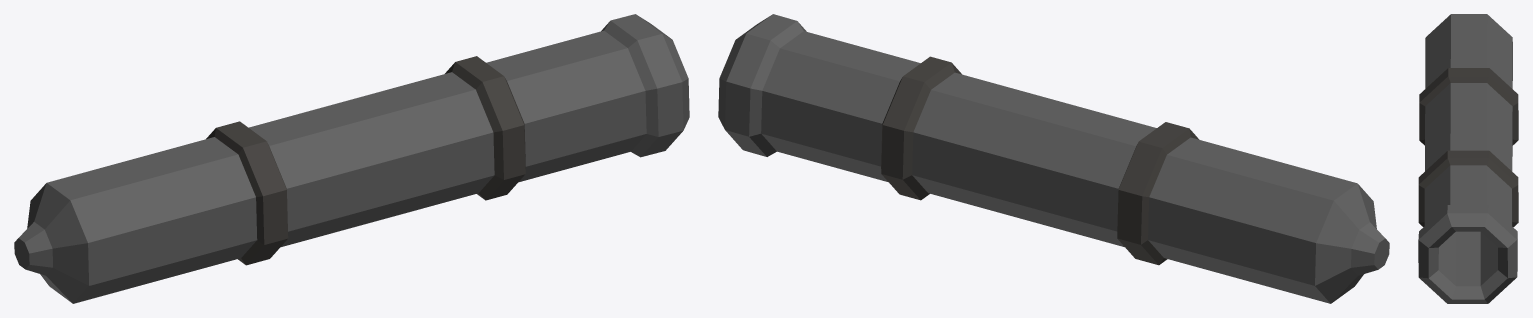
The model's file is gun.fbx.
3 renders of one model, left to right at view 1: azimuth 30°, elevation 25°; view 2: azimuth 150°, elevation 25°; view 3: azimuth 270°, elevation 25°, orthographic. The views are drawn at different scales.
Visible parts, largest first — view 1: gun; view 2: gun; view 3: gun.
Part boxes in pixels (box(x1,y1,x2,y2)): gun: box(14, 14, 689, 303); gun: box(718, 14, 1389, 303); gun: box(1418, 14, 1518, 303).
Bounding box in the file's own units: 259 × 50.38 × 46.07.
